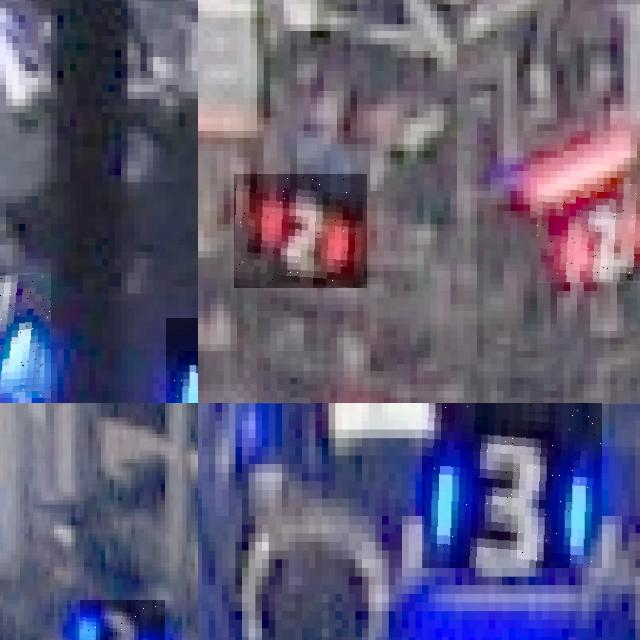B1: (0, 273, 50, 398)
B2: (79, 600, 165, 640)
B3: (422, 403, 602, 568)
R2: (234, 174, 367, 288), (537, 184, 640, 284)
